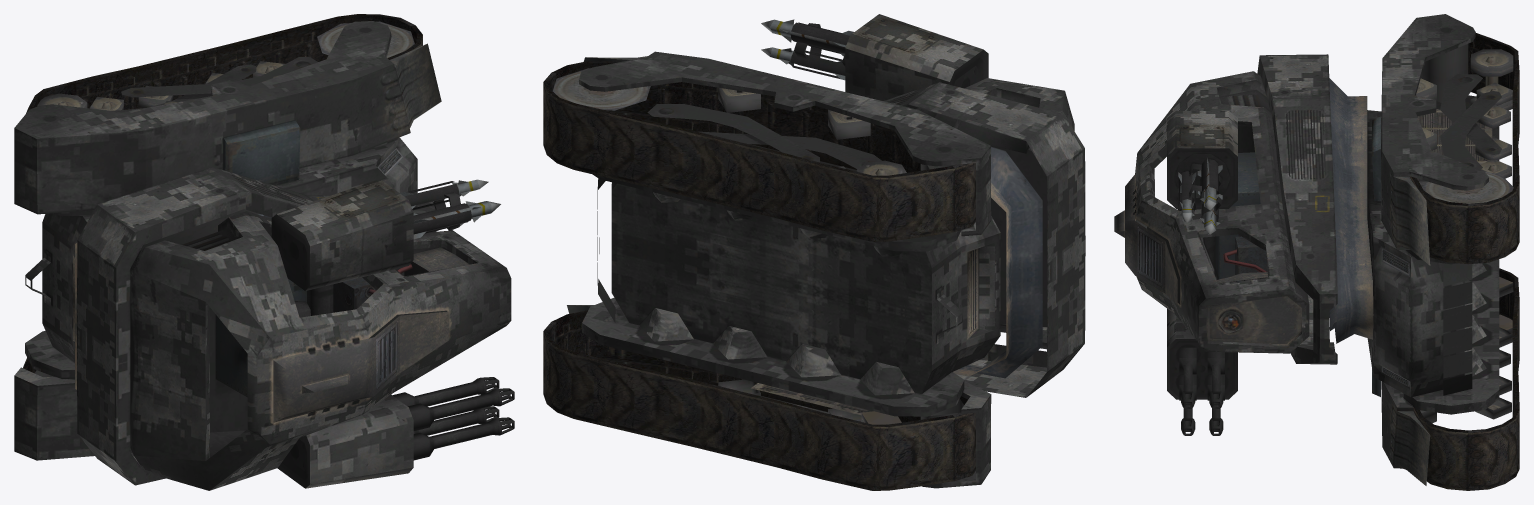
The model's file is veh_t6_drone_tank_alt_LOD2.obj.
The picture shows the model from 3 angles, left to right: view 1: azimuth 30°, elevation 25°; view 2: azimuth 150°, elevation 25°; view 3: azimuth 270°, elevation 25°; orthographic projection. The views are drawn at different scales.
Parts seen in each view (by area): view 1: mtl_veh_t6_drone_tank_alt, mtl_veh_t6_asd_tread_left, mtl_veh_t6_drone_tank_wheels, mtl_veh_t6_drone_tank_missile; view 2: mtl_veh_t6_drone_tank_alt, mtl_veh_t6_asd_tread_left, mtl_veh_t6_drone_tank_wheels, mtl_veh_t6_drone_tank_missile; view 3: mtl_veh_t6_drone_tank_alt, mtl_veh_t6_asd_tread_left, mtl_veh_t6_drone_tank_wheels, mtl_veh_t6_drone_tank_missile.
Boxes of the visible parts, bbox=[...] form: mtl_veh_t6_drone_tank_alt: bbox=[14, 21, 514, 490]; mtl_veh_t6_asd_tread_left: bbox=[23, 14, 422, 373]; mtl_veh_t6_drone_tank_wheels: bbox=[34, 21, 414, 377]; mtl_veh_t6_drone_tank_missile: bbox=[400, 179, 500, 238]; mtl_veh_t6_drone_tank_alt: bbox=[567, 14, 1085, 488]; mtl_veh_t6_asd_tread_left: bbox=[543, 61, 975, 490]; mtl_veh_t6_drone_tank_wheels: bbox=[552, 68, 963, 424]; mtl_veh_t6_drone_tank_missile: bbox=[761, 19, 853, 79]; mtl_veh_t6_drone_tank_alt: bbox=[1114, 14, 1501, 485]; mtl_veh_t6_asd_tread_left: bbox=[1409, 33, 1519, 490]; mtl_veh_t6_drone_tank_wheels: bbox=[1416, 44, 1513, 423]; mtl_veh_t6_drone_tank_missile: bbox=[1178, 158, 1222, 234].
Size of the model in its own units: 104 by 76.81 by 94.9.
